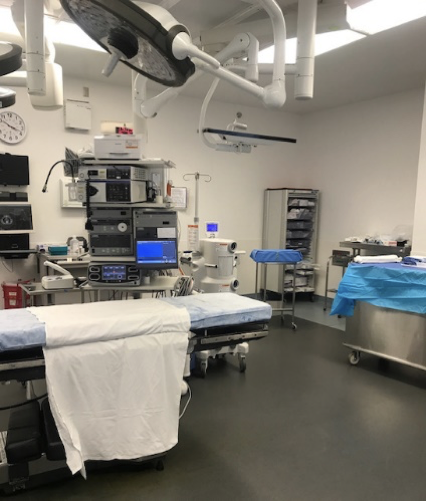cabinet: (262, 187, 316, 296)
computer: (131, 235, 180, 281)
iv_pole: (181, 172, 213, 261)
operating_bed: (1, 290, 274, 501)
surgical_light: (47, 1, 198, 90)
table: (321, 249, 357, 320)
utility_cart: (339, 256, 426, 378), (249, 249, 303, 328)
